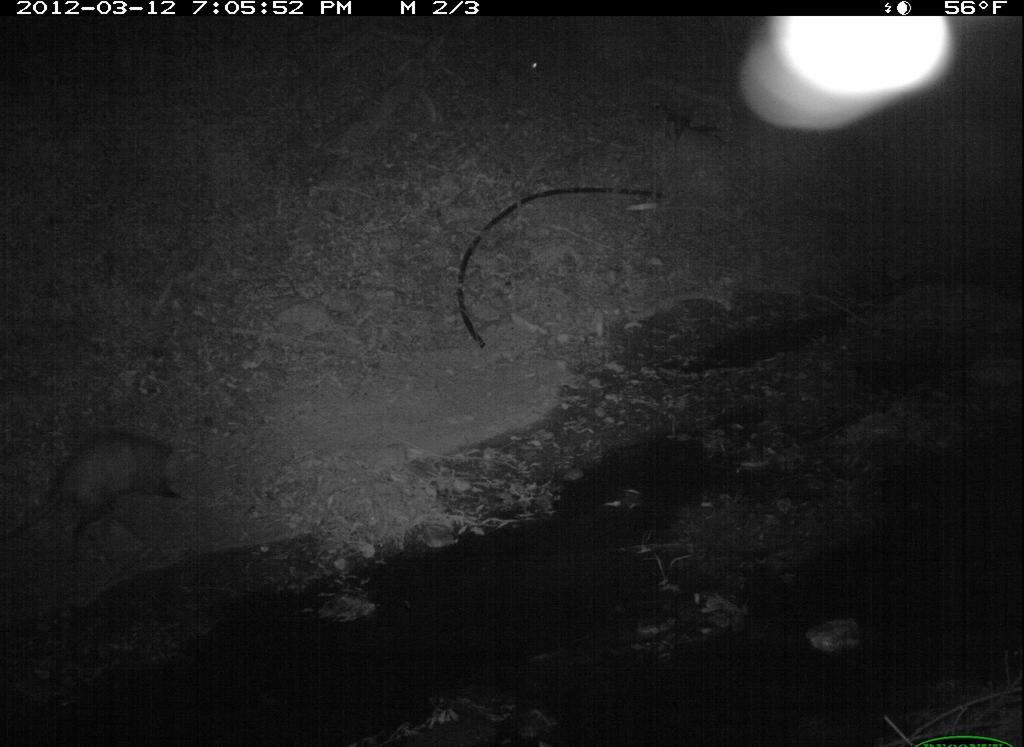opossum: (18, 419, 199, 575)
